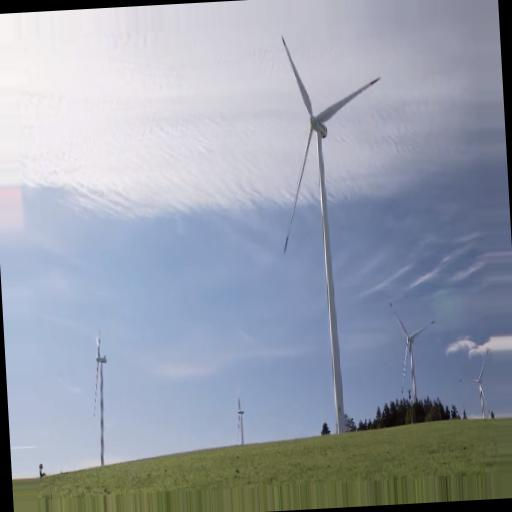wind turbine: (280, 35, 381, 432), (387, 303, 434, 424), (455, 346, 491, 420)
